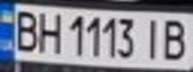1: (63, 11, 84, 56), (84, 12, 103, 57), (100, 14, 118, 58)
3: (115, 15, 139, 60)
B: (9, 7, 42, 53), (160, 16, 190, 62)
H: (33, 8, 63, 54)
I: (139, 15, 166, 61)
